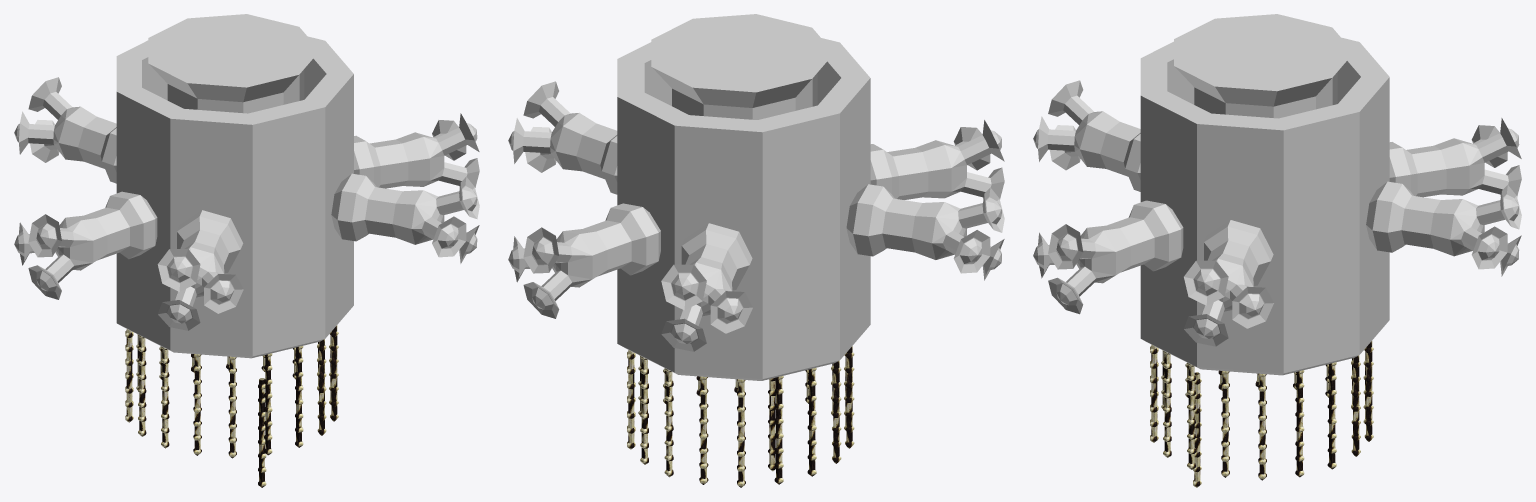
File: Mobile Satalite2.fbx
3 views of the same model, side by side, from view 1: azimuth 30°, elevation 25°; view 2: azimuth 150°, elevation 25°; view 3: azimuth 270°, elevation 25° (orthographic). The views are drawn at different scales.
Visible parts, largest first — view 1: Main Exterrior, circle, New Arm_6, New Arm_1, New Arm_2, New Arm_5, New Arm_3; view 2: Main Exterrior, circle, New Arm_1, New Arm_4, New Arm_3, New Arm_2, New Arm_5; view 3: Main Exterrior, circle, New Arm_4, New Arm_6, New Arm_5, New Arm_3, New Arm_2.
Part boxes in pixels (<box>): Main Exterrior: <box>116,36,353,358</box>; circle: <box>148,14,319,113</box>; New Arm_6: <box>331,173,479,263</box>; New Arm_1: <box>14,191,157,299</box>; New Arm_2: <box>157,210,243,330</box>; New Arm_5: <box>354,113,479,188</box>; New Arm_3: <box>14,77,116,183</box>; Main Exterrior: <box>617,38,870,380</box>; circle: <box>651,14,833,119</box>; New Arm_1: <box>846,184,1004,280</box>; New Arm_4: <box>508,203,660,318</box>; New Arm_3: <box>661,223,752,351</box>; New Arm_2: <box>870,120,1004,199</box>; New Arm_5: <box>508,81,617,194</box>; Main Exterrior: <box>1140,37,1389,375</box>; circle: <box>1174,14,1353,118</box>; New Arm_4: <box>1366,181,1521,276</box>; New Arm_6: <box>1033,200,1183,314</box>; New Arm_5: <box>1184,220,1273,346</box>; New Arm_3: <box>1389,118,1521,197</box>; New Arm_2: <box>1033,80,1140,191</box>.
Size of the model in its own units: 9978 by 8952 by 9110.
Materials: 1 (1 with a texture image).
